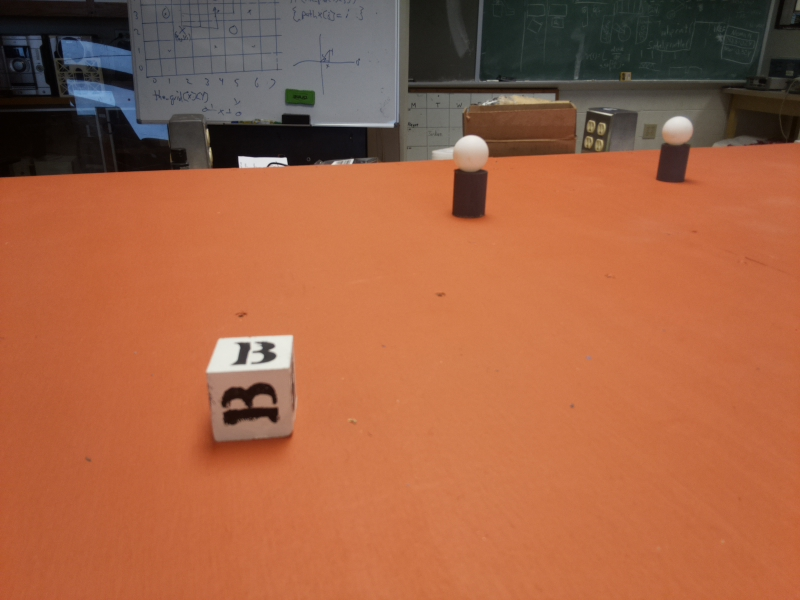blockB: (202, 330, 307, 449)
obstacle: (451, 130, 493, 219), (653, 115, 696, 185)
